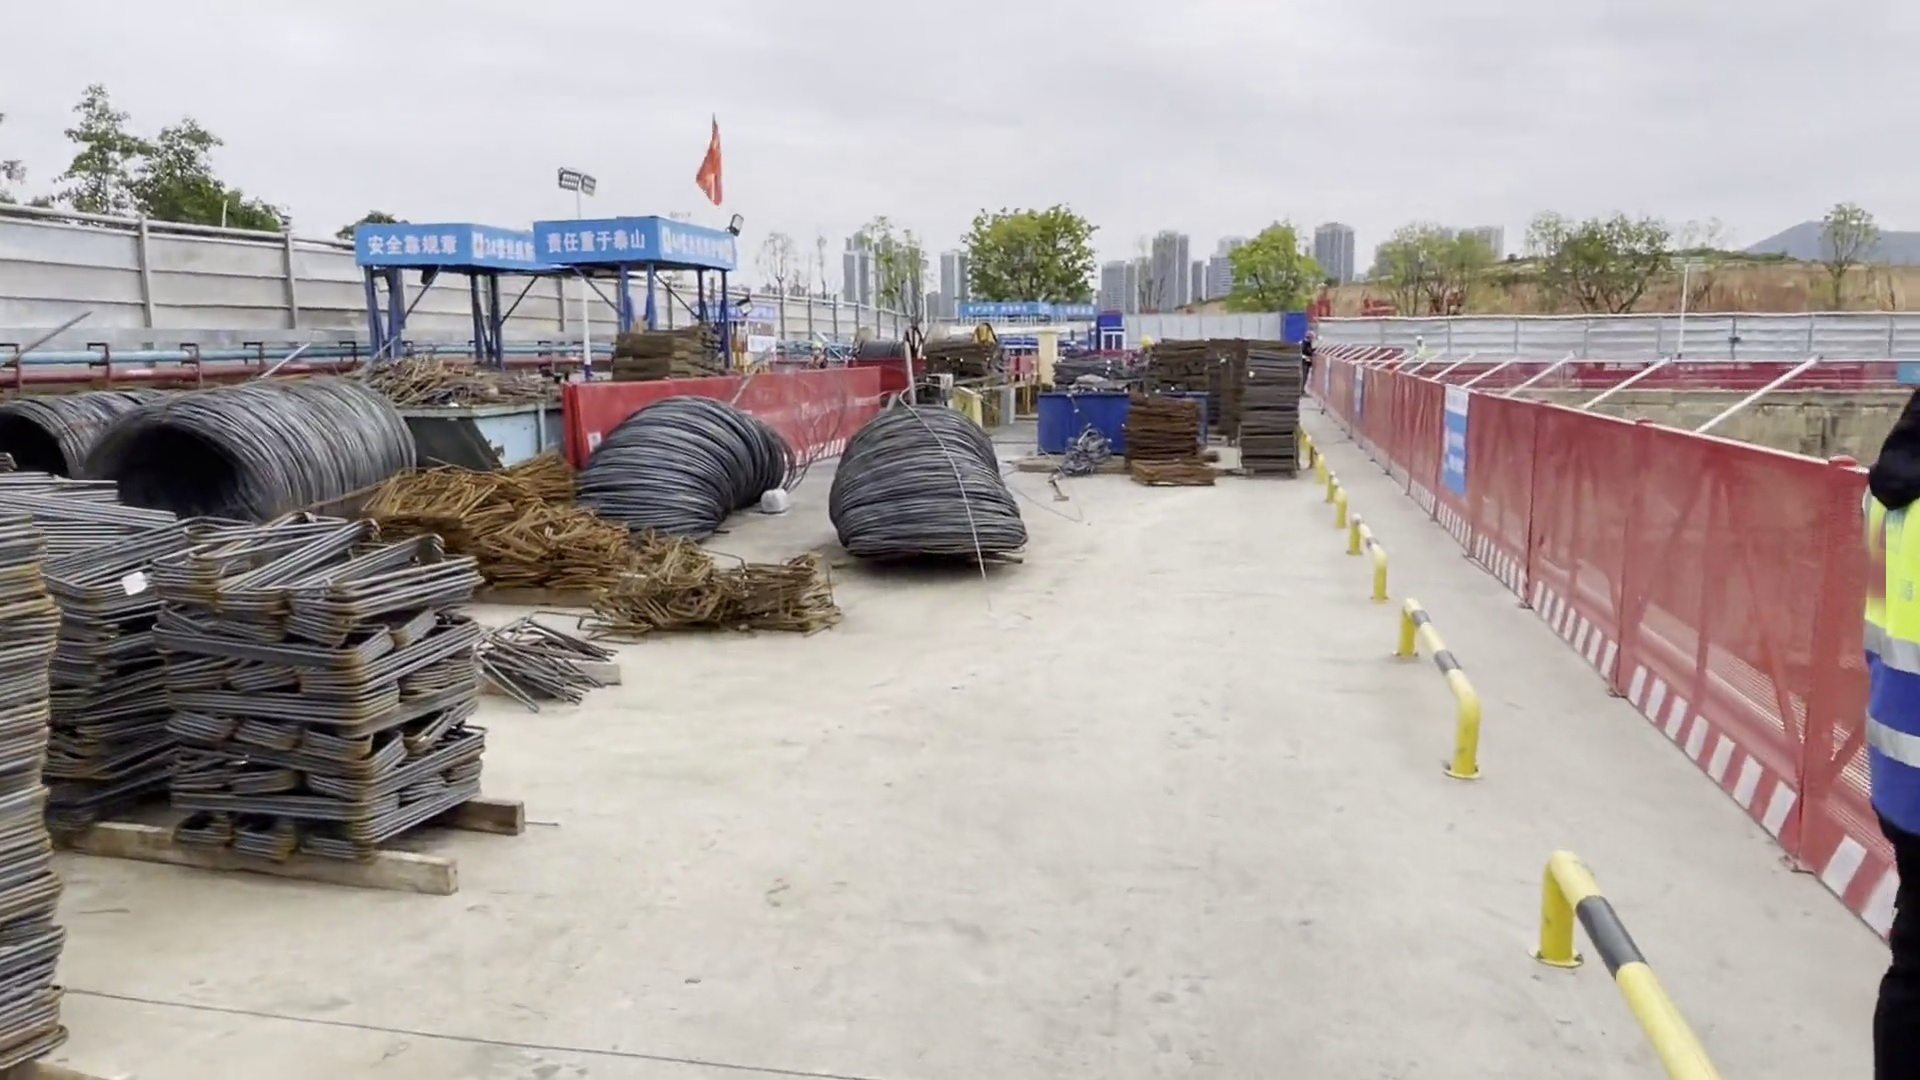fence: (1528, 405, 1855, 894), (1382, 372, 1529, 600), (572, 371, 886, 451), (1308, 354, 1379, 436)
helmet: (1141, 338, 1154, 346)
hopper: (1030, 386, 1200, 447), (406, 402, 564, 464)
person: (1861, 361, 1920, 1072), (1294, 336, 1313, 386), (802, 342, 824, 374), (1416, 338, 1427, 353)
slogan: (537, 217, 727, 264), (356, 225, 530, 268), (1435, 387, 1469, 489), (964, 300, 1098, 314)
vest: (1871, 448, 1918, 833)
